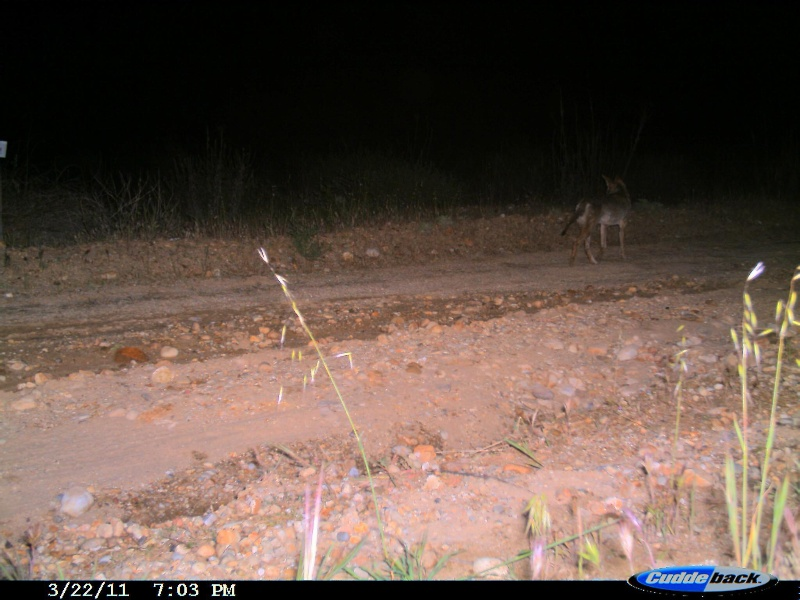coyote: (559, 173, 636, 268)
